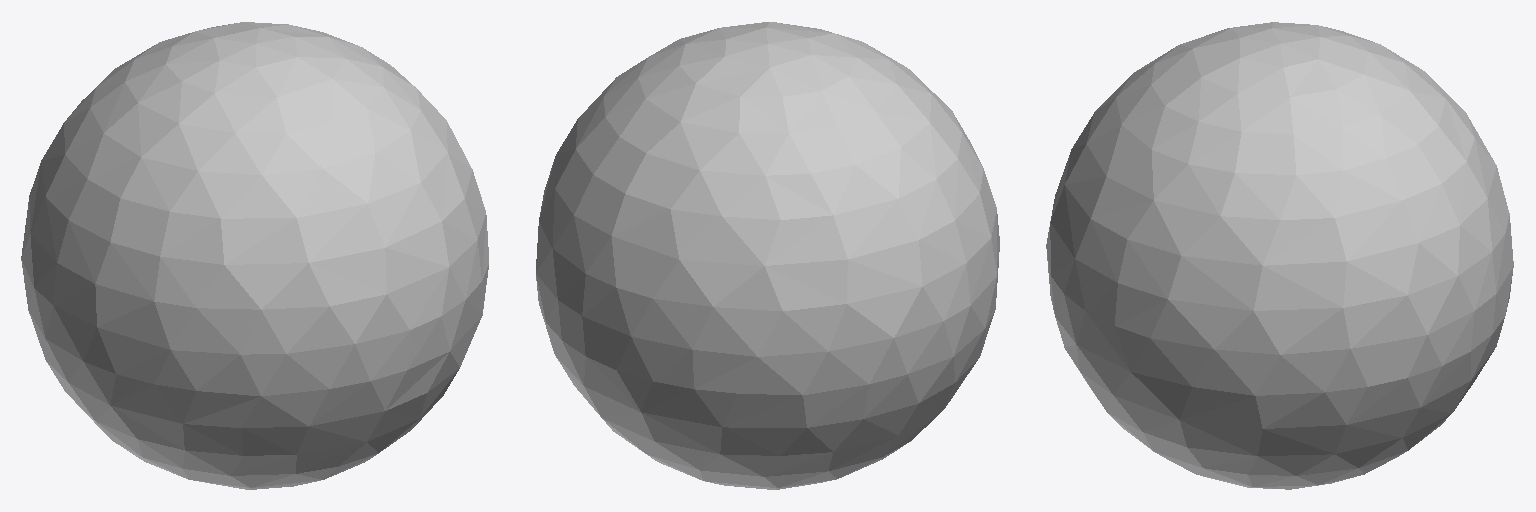
Rendered from sun.obj.
3 views of the same model, side by side, from view 1: azimuth 30°, elevation 25°; view 2: azimuth 150°, elevation 25°; view 3: azimuth 270°, elevation 25° (orthographic).
Parts seen in each view (by area): view 1: Sphere; view 2: Sphere; view 3: Sphere.
Boxes of the visible parts, box(x1,y1,x2,y2) form: Sphere: box(21, 22, 488, 489); Sphere: box(536, 22, 999, 489); Sphere: box(1046, 22, 1513, 489).
Size of the model in its own units: 2 by 2 by 2.